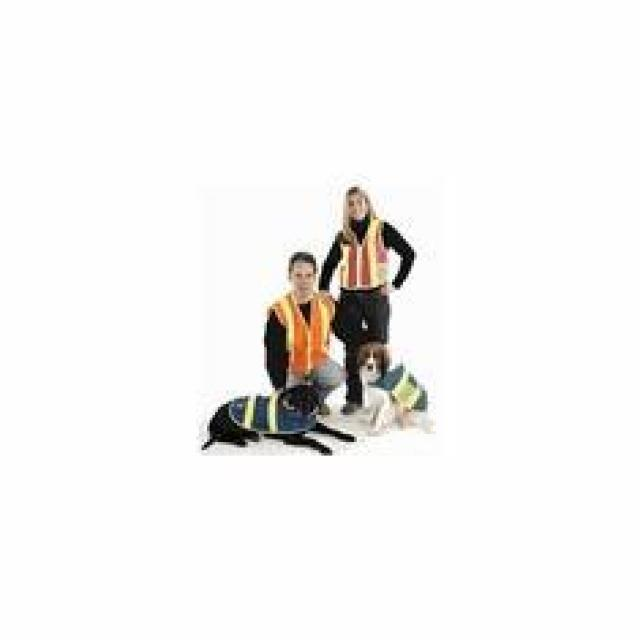no-helmet: (340, 184, 374, 214), (288, 250, 318, 284)
vest: (267, 290, 339, 382), (334, 222, 395, 291)
